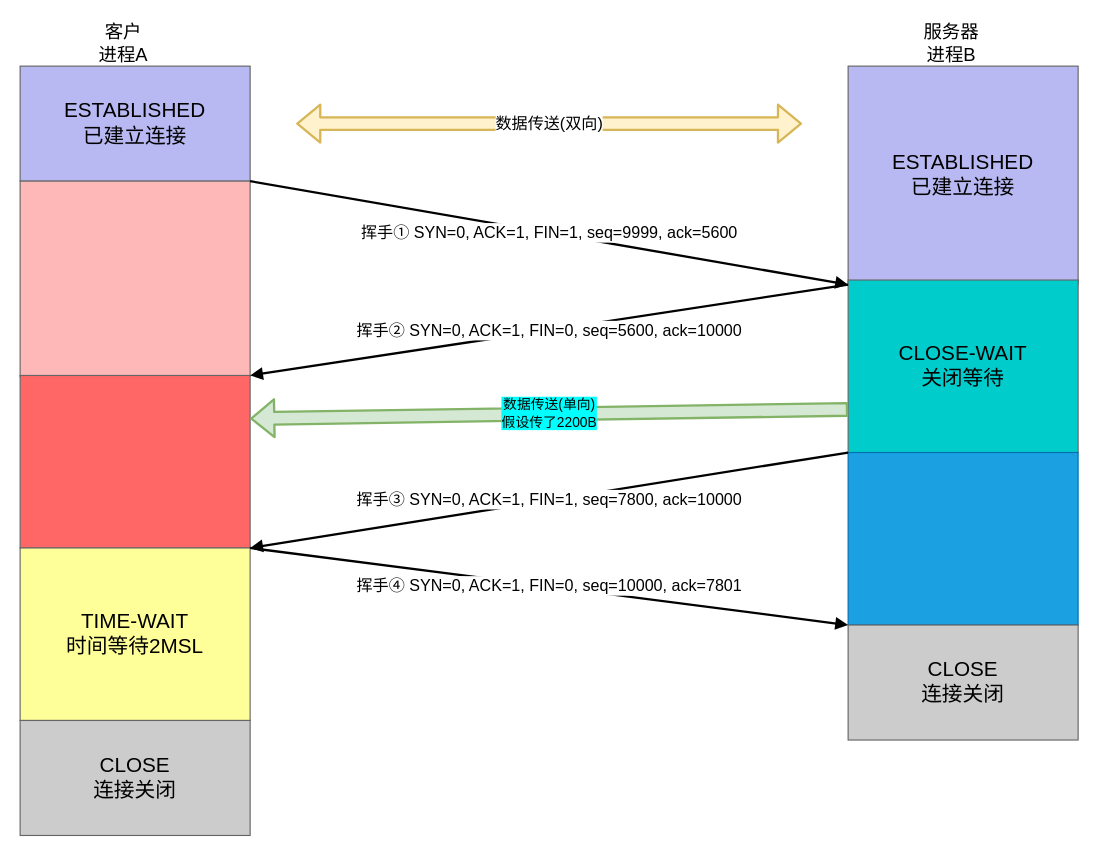
This 1098x856 diagram has some shape labels left out. Each missing label, with the centre of its shape:
FIN-WAIT1 终止等待1: pixel 134 278
FIN-WAIT2 终止等待2: pixel 134 461
LAST-ACK 最后确认: pixel 962 538
